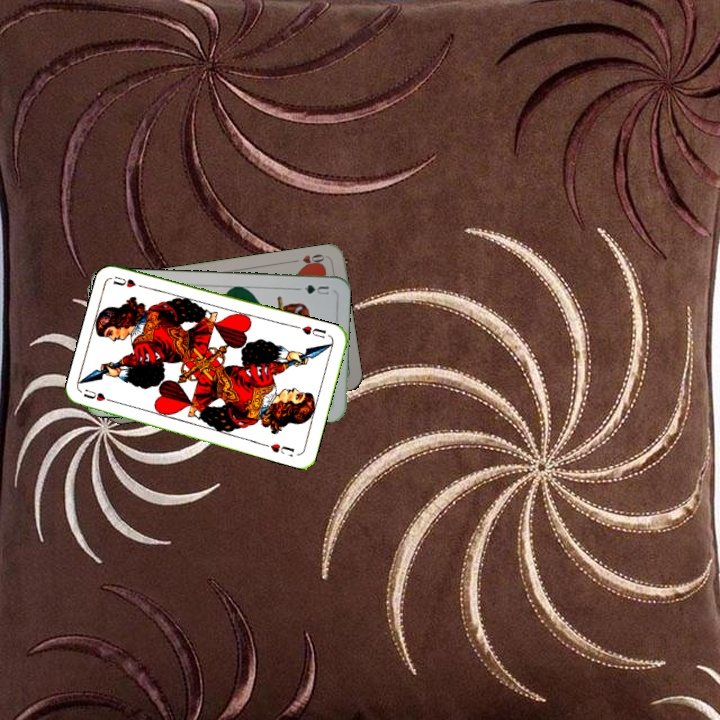GU: (294, 281, 332, 297)
HO: (288, 250, 327, 270)
HU: (79, 385, 119, 406), (293, 322, 329, 341)
